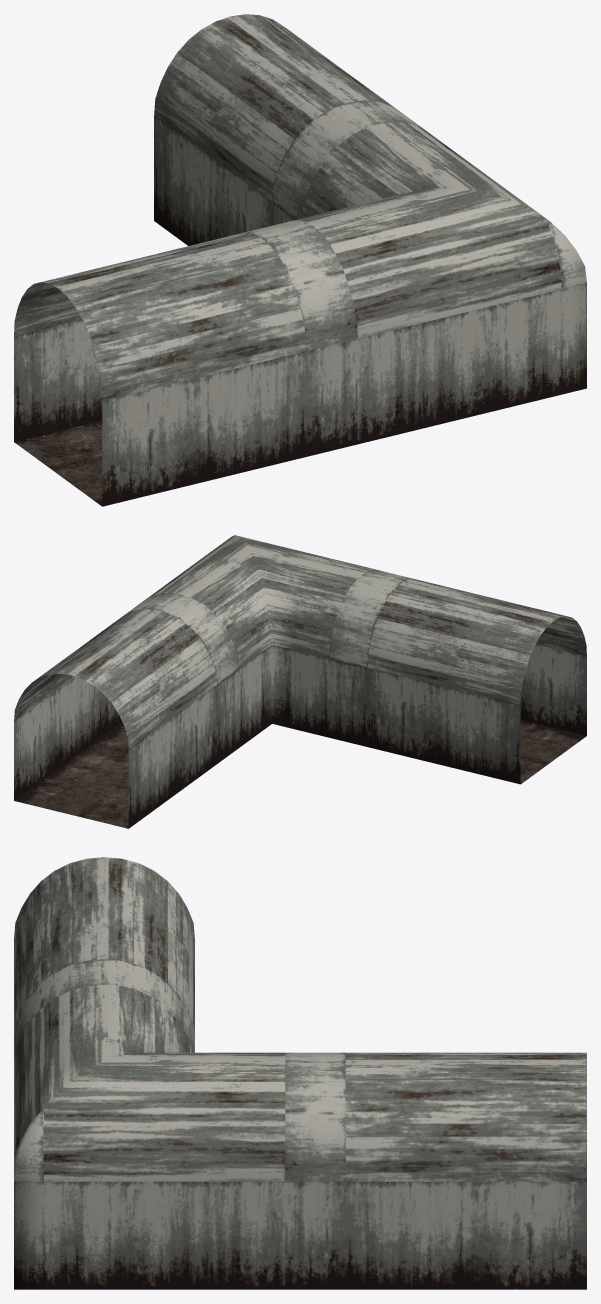
Rendered from SM_EC_ConcreteTunnel_90_0.fbx.
3 renders of one model, top to bottom at view 1: azimuth 30°, elevation 25°; view 2: azimuth 150°, elevation 25°; view 3: azimuth 270°, elevation 25°, orthographic. The views are drawn at different scales.
Parts seen in each view (by area): view 1: SM_EC_ConcreteTunnel_90_0; view 2: SM_EC_ConcreteTunnel_90_0; view 3: SM_EC_ConcreteTunnel_90_0.
Boxes of the visible parts, box(x1,y1,x2,y2) form: SM_EC_ConcreteTunnel_90_0: box(14, 14, 586, 506); SM_EC_ConcreteTunnel_90_0: box(14, 535, 586, 828); SM_EC_ConcreteTunnel_90_0: box(14, 857, 586, 1289).
Bounding box in the file's own units: 9.5 × 9.5 × 3.48.
